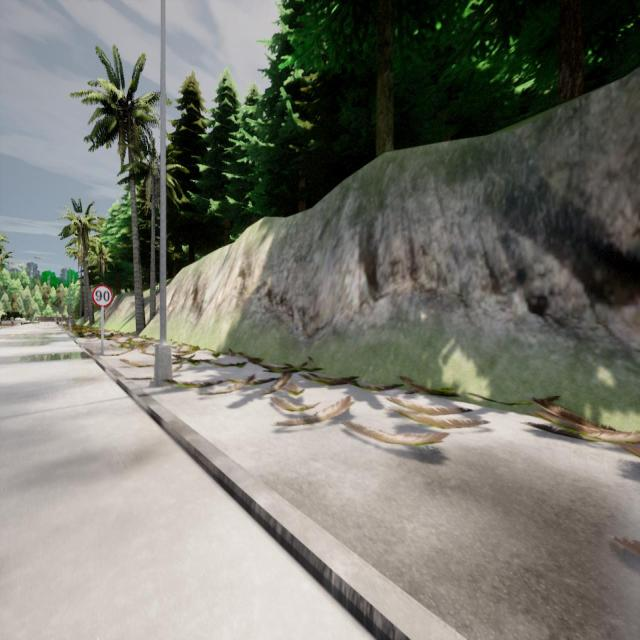Traffic_Signs: (91, 285, 113, 306), (10, 315, 14, 327)
